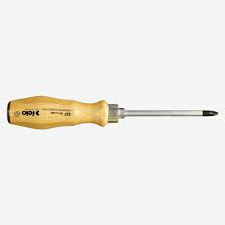Screwdriver: (6, 83, 224, 138)
